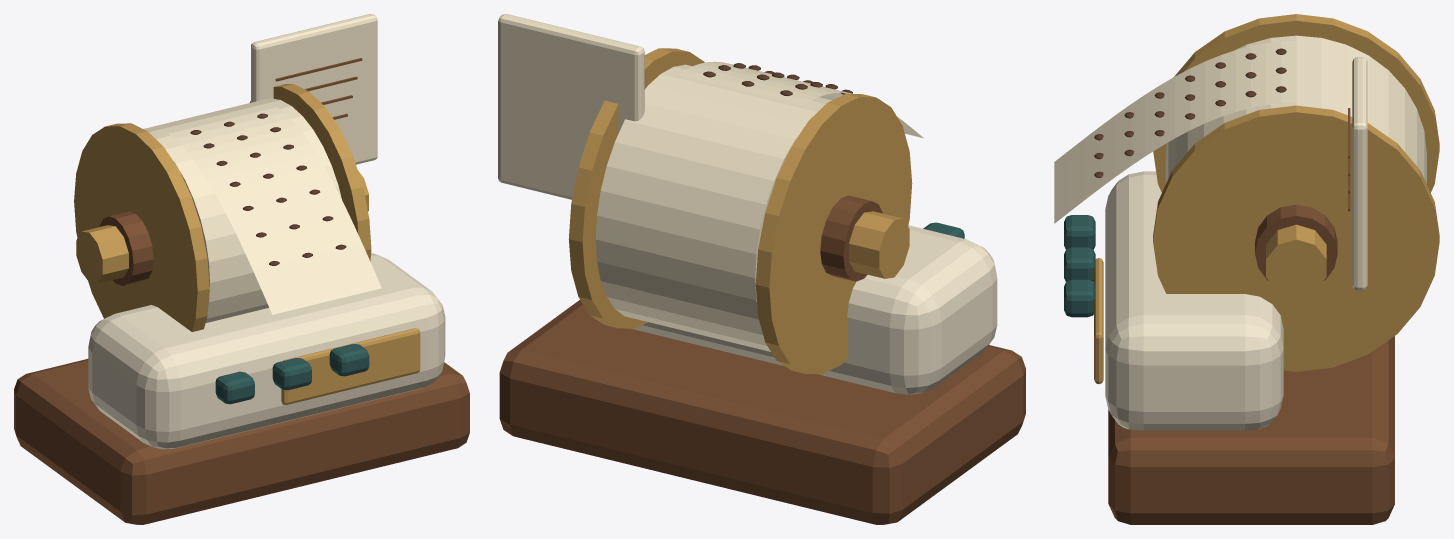
3 views of the same model, side by side, from view 1: azimuth 30°, elevation 25°; view 2: azimuth 150°, elevation 25°; view 3: azimuth 270°, elevation 25° (orthographic). The views are drawn at different scales.
Parts seen in each view (by area): view 1: loft_wood_dark, loft_cream, loft_brass, paper_feed, loft_paper, tape_spool, loft_teal_dark, loft_leather_dark; view 2: loft_wood_dark, tape_spool, loft_brass, loft_cream, loft_paper, paper_feed, loft_leather_dark; view 3: loft_brass, loft_wood_dark, loft_cream, paper_feed, tape_spool, loft_paper, loft_teal_dark, loft_leather_dark.
Part boxes in pixels (<box>): loft_wood_dark: <box>14,58,469,524</box>; loft_cream: <box>88,253,445,449</box>; loft_brass: <box>74,84,420,404</box>; paper_feed: <box>168,107,381,314</box>; loft_paper: <box>251,14,377,164</box>; tape_spool: <box>143,98,341,322</box>; loft_teal_dark: <box>215,344,369,404</box>; loft_leather_dark: <box>190,113,346,265</box>; loft_wood_dark: <box>499,195,1025,524</box>; tape_spool: <box>595,64,831,351</box>; loft_brass: <box>569,48,912,374</box>; loft_cream: <box>631,225,997,394</box>; loft_paper: <box>498,14,644,199</box>; paper_feed: <box>678,61,923,138</box>; loft_leather_dark: <box>703,63,852,95</box>; loft_brass: <box>1094,14,1439,383</box>; loft_wood_dark: <box>1108,108,1394,524</box>; loft_cream: <box>1105,171,1283,430</box>; paper_feed: <box>1054,41,1296,223</box>; tape_spool: <box>1165,35,1426,184</box>; loft_paper: <box>1352,57,1367,290</box>; loft_teal_dark: <box>1064,215,1095,317</box>; loft_leather_dark: <box>1094,48,1286,178</box>.
Bounding box in the file's own units: 0.745 × 0.715 × 0.605.
